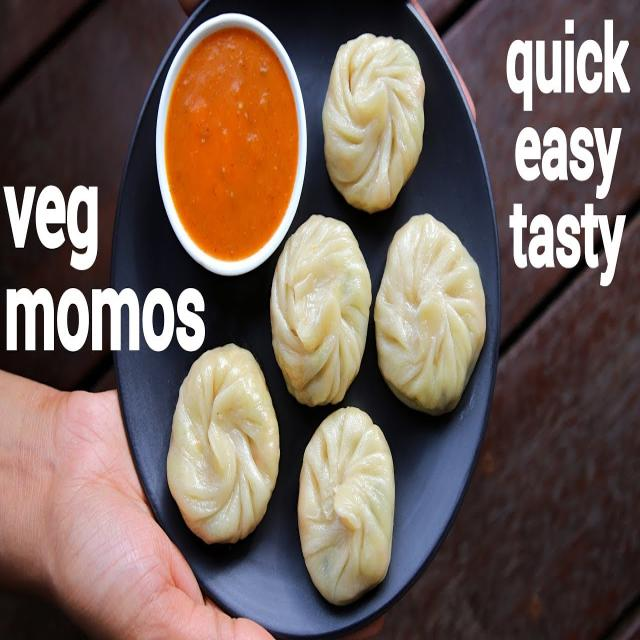momos: (165, 349, 281, 535), (384, 211, 482, 400), (302, 415, 400, 589), (321, 33, 424, 194), (276, 236, 368, 382)
